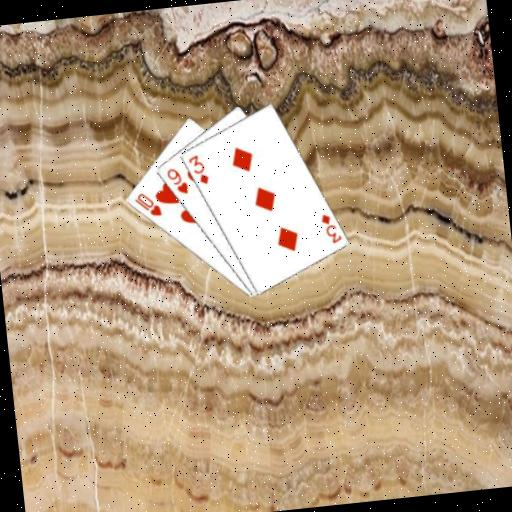10H: (131, 188, 164, 220)
3D: (184, 150, 211, 187), (317, 209, 344, 246)
9H: (163, 164, 190, 198)
